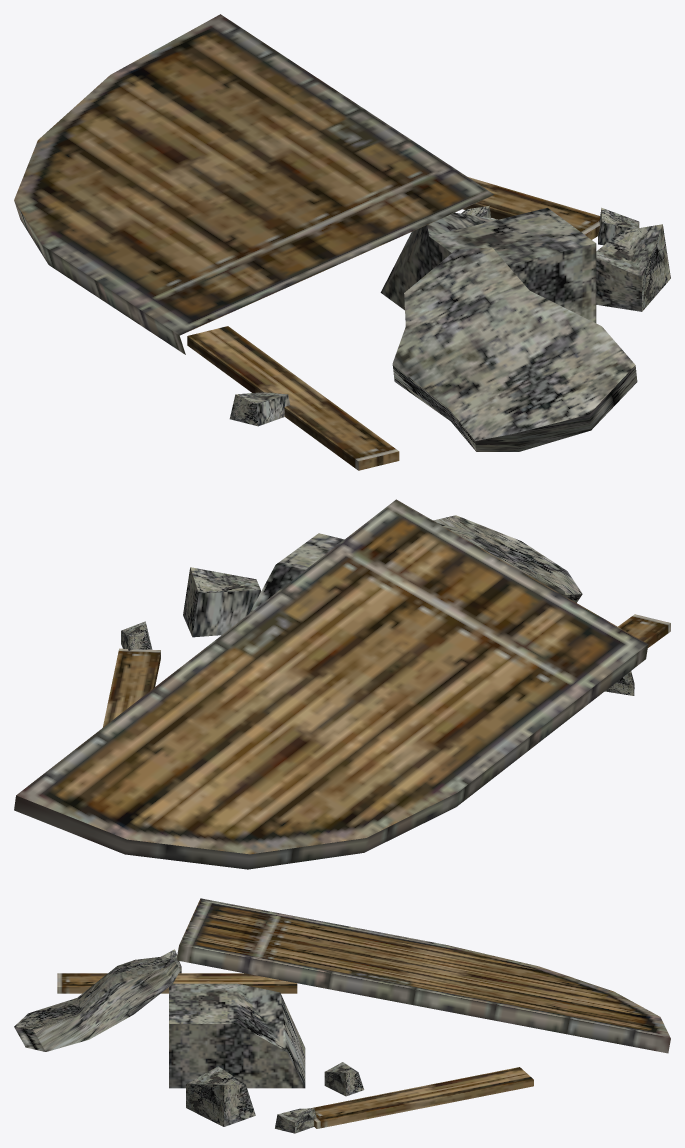
File: M2_Rubble_02.glb
The picture shows the model from 3 angles, top to bottom: view 1: azimuth 30°, elevation 25°; view 2: azimuth 150°, elevation 25°; view 3: azimuth 270°, elevation 25°; orthographic projection. The views are drawn at different scales.
Visible parts, largest first — view 1: M2_RUBBLE_02; view 2: M2_RUBBLE_02; view 3: M2_RUBBLE_02.
Boxes of the visible parts, <box> form: M2_RUBBLE_02: <box>14,14,670,470</box>; M2_RUBBLE_02: <box>14,499,670,869</box>; M2_RUBBLE_02: <box>14,898,670,1133</box>.
Size of the model in its own units: 1.75 by 0.531 by 2.69.
2 materials, 2 textured.
